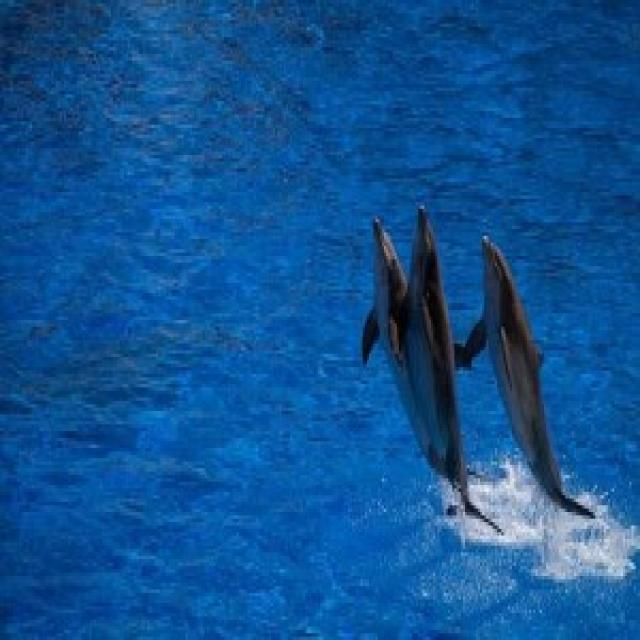Dolphin: (472, 234, 614, 530), (404, 206, 473, 498), (361, 213, 404, 432)
